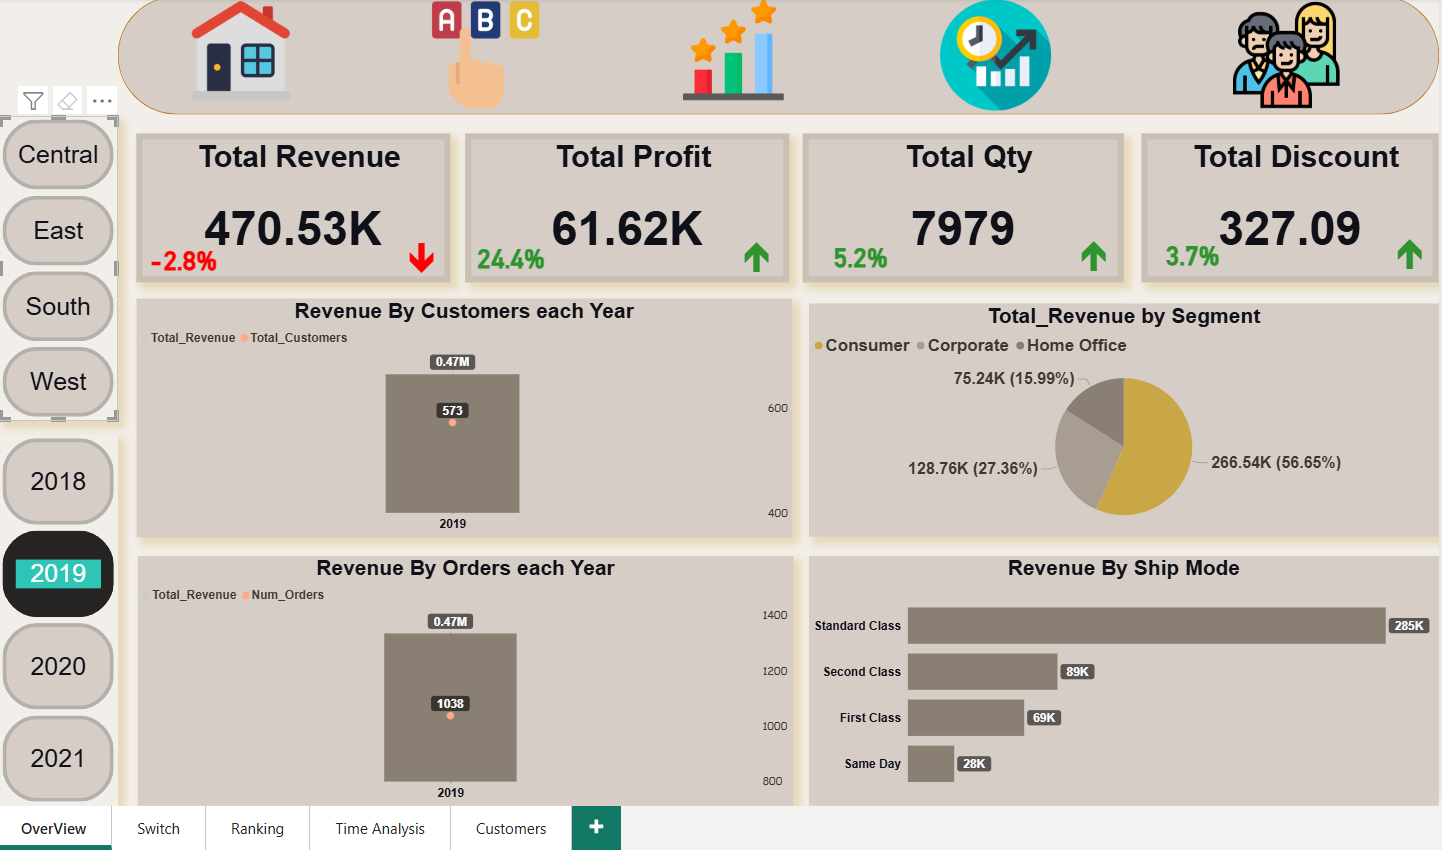

The dashboard page shown, as its layout file describes it:
{"tool":"powerbi","page":{"name":"OverView","canvas":[1920,1080],"ordinal":0},"visuals":[{"type":"advancedSlicerVisual","fields":{"Values":["Calendar_Table.Year"]},"box":[0,585.7,158.6,494.3],"z":2000},{"type":"advancedSlicerVisual","fields":{"Values":["Dim_Customer.Region"]},"box":[0,160,158.3,406.7],"z":3000},{"type":"shape","box":[158,0,1762,158],"z":5000},{"type":"card","title":"Total Profit","fields":{"Values":["Dax.Total_Profit"]},"box":[622,184,432,198],"z":6000},{"type":"card","fields":{"Values":["Dax.Show % Profit"]},"box":[621.8,295.5,121.8,106.4],"z":7000},{"type":"card","fields":{"Values":["Dax.Show Arrow Profit"]},"box":[924.5,291.8,170,110],"z":8000},{"type":"card","title":"Total Qty","fields":{"Values":["Dax.Total_Quantity"]},"box":[1072,184,428,198],"z":9000},{"type":"card","fields":{"Values":["Dax.Show % Quantity"]},"box":[1080,295.5,136.4,103.6],"z":10000},{"type":"card","fields":{"Values":["Dax.Show Arrow Quantity"]},"box":[1373.6,291.8,172.7,106.4],"z":11000},{"type":"card","title":"Total Discount","fields":{"Values":["Dax.Total_Discount"]},"box":[1524,184,396,198],"z":12000},{"type":"card","fields":{"Values":["Dax.Show % Discount"]},"box":[1523.6,291.8,136.4,103.6],"z":13000},{"type":"card","fields":{"Values":["Dax.Show Arrow Discount"]},"box":[1840.9,295.5,79.1,94.5],"z":14000},{"type":"lineClusteredColumnComboChart","title":"Revenue By Customers each Year","fields":{"Category":["Calendar_Table.Year"],"Y":["Dax.Total_Revenue"],"Y2":["Dax.Total_Customers"]},"box":[184,404,874,318],"z":15000},{"type":"barChart","title":"Revenue By Ship Mode","fields":{"Category":["Dim_Order.Ship Mode"],"Y":["Dax.Total_Revenue"]},"box":[1080.4,747.4,839.7,333],"z":16000},{"type":"pieChart","fields":{"Y":["Dax.Total_Revenue"],"Category":["Dim_Order.Segment"]},"box":[1080.4,410.8,839.7,311.3],"z":17000},{"type":"lineClusteredColumnComboChart","title":"Revenue By Orders each Year","fields":{"Category":["Calendar_Table.Year"],"Y2":["Dax.Num_Orders"],"Y":["Dax.Total_Revenue"]},"box":[184.6,747.4,874.1,333],"z":18000},{"type":"image","box":[230.7,0,184.2,144.8],"z":19000},{"type":"image","box":[570,0,158,158],"z":20000},{"type":"image","box":[1638,0,156,158],"z":21000},{"type":"image","box":[900,0,158,144],"z":22000},{"type":"image","box":[1250,0,158,158],"z":23000},{"type":"card","title":"Total Revenue","fields":{"Values":["Dax.Total_Revenue"]},"box":[184,184,418,198],"z":24000},{"type":"card","fields":{"Values":["Dax.Show Arrow Revenue"]},"box":[479.1,295.5,170,106.4],"z":25000},{"type":"card","fields":{"Values":["Dax.Show % Revenue"]},"box":[183.6,298.2,124.5,103.6],"z":25500}]}

Visuals, with their boxes on the page's 1920x1080 design canvas (x1, y1, x2, y2). These are canvas units, not pixel positions in the 1442x850 screenshot, which may show the page scaled, cropped or inside an application window:
advancedSlicerVisual - Calendar_Table.Year: Rect(0, 586, 159, 1080)
advancedSlicerVisual - Dim_Customer.Region: Rect(0, 160, 158, 567)
shape: Rect(158, 0, 1920, 158)
"Total Profit" card: Rect(622, 184, 1054, 382)
card - Dax.Show % Profit: Rect(622, 296, 744, 402)
card - Dax.Show Arrow Profit: Rect(924, 292, 1094, 402)
"Total Qty" card: Rect(1072, 184, 1500, 382)
card - Dax.Show % Quantity: Rect(1080, 296, 1216, 399)
card - Dax.Show Arrow Quantity: Rect(1374, 292, 1546, 398)
"Total Discount" card: Rect(1524, 184, 1920, 382)
card - Dax.Show % Discount: Rect(1524, 292, 1660, 395)
card - Dax.Show Arrow Discount: Rect(1841, 296, 1920, 390)
"Revenue By Customers each Year" lineClusteredColumnComboChart: Rect(184, 404, 1058, 722)
"Revenue By Ship Mode" barChart: Rect(1080, 747, 1920, 1080)
pieChart - Dax.Total_Revenue x Dim_Order.Segment: Rect(1080, 411, 1920, 722)
"Revenue By Orders each Year" lineClusteredColumnComboChart: Rect(185, 747, 1059, 1080)
image: Rect(231, 0, 415, 145)
image: Rect(570, 0, 728, 158)
image: Rect(1638, 0, 1794, 158)
image: Rect(900, 0, 1058, 144)
image: Rect(1250, 0, 1408, 158)
"Total Revenue" card: Rect(184, 184, 602, 382)
card - Dax.Show Arrow Revenue: Rect(479, 296, 649, 402)
card - Dax.Show % Revenue: Rect(184, 298, 308, 402)
